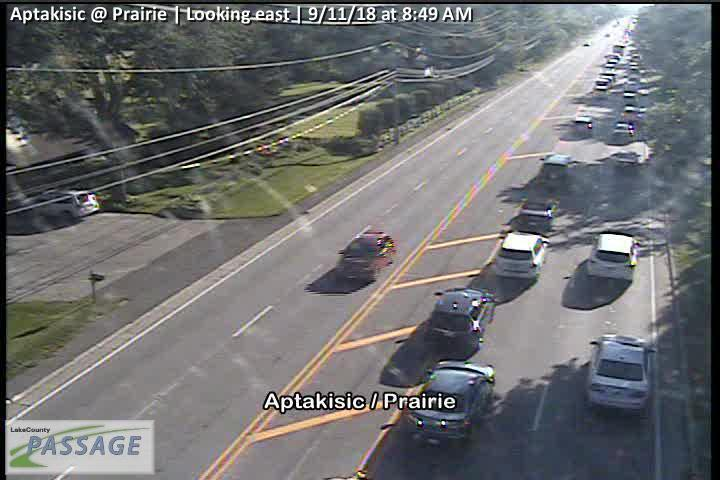SUV: (585, 233, 641, 280), (493, 232, 549, 278), (22, 189, 100, 221)
Sedan: (405, 359, 495, 441), (585, 334, 657, 413), (423, 288, 496, 356), (337, 231, 397, 282), (517, 198, 558, 231), (538, 154, 575, 188), (613, 123, 635, 142), (573, 116, 593, 135), (623, 105, 640, 119)
